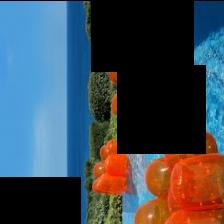orange: (104, 152, 129, 175)
